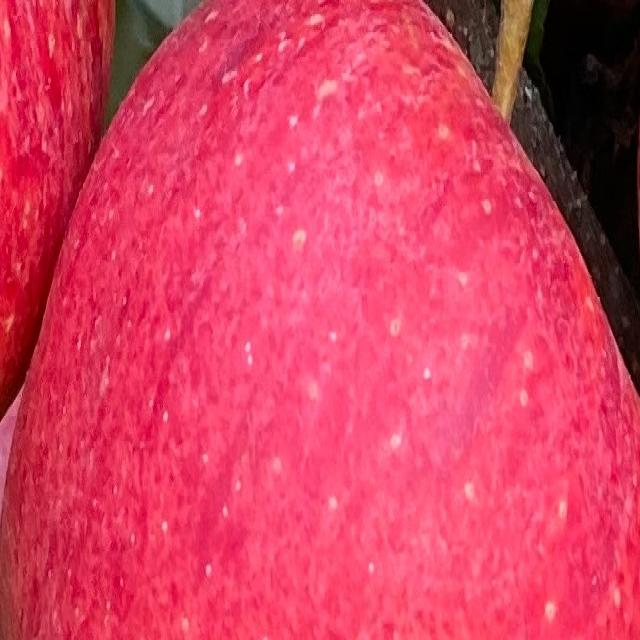100-_ripeness: (0, 0, 640, 640), (0, 0, 117, 420)
